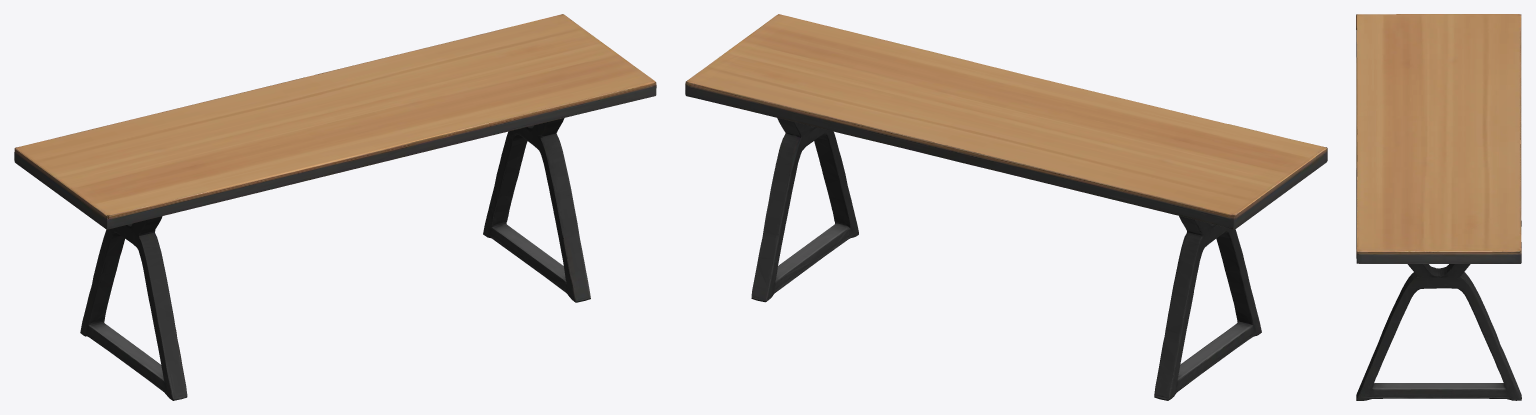
The picture shows the model from 3 angles, left to right: view 1: azimuth 30°, elevation 25°; view 2: azimuth 150°, elevation 25°; view 3: azimuth 270°, elevation 25°; orthographic projection. The views are drawn at different scales.
Parts seen in each view (by area): view 1: geometry_0; view 2: geometry_0; view 3: geometry_0.
Boxes of the visible parts, x1,y1,x2,y2 form: geometry_0: (14,14,656,400); geometry_0: (685,14,1327,400); geometry_0: (1356,14,1521,400).
Size of the model in its own units: 1 by 0.3513 by 0.2952.
Materials: 1 (1 with a texture image).
